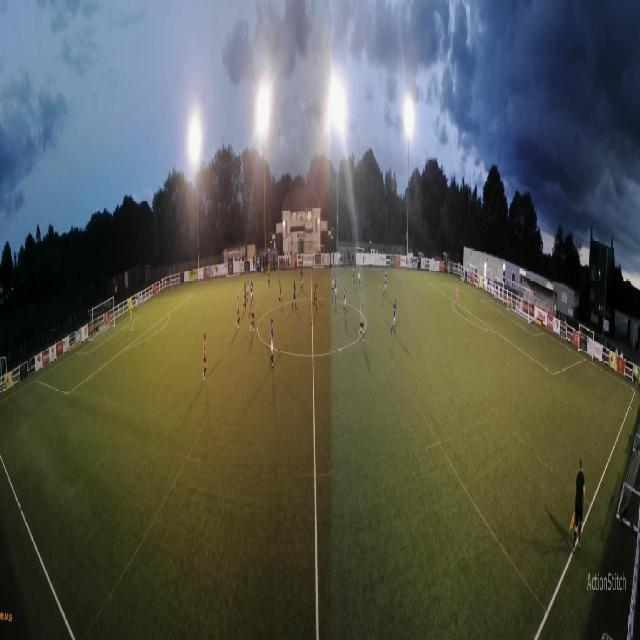ball: (379, 285, 382, 290)
player: (202, 333, 208, 381), (358, 300, 364, 342), (391, 298, 397, 335), (270, 318, 274, 369), (250, 295, 255, 333), (292, 280, 298, 311), (312, 283, 318, 314), (235, 294, 240, 329), (342, 283, 347, 317), (243, 282, 248, 311), (334, 275, 339, 304), (278, 276, 282, 305), (330, 266, 334, 295), (383, 271, 387, 299), (130, 306, 134, 333), (250, 280, 254, 307), (300, 267, 304, 293), (351, 262, 355, 288), (247, 275, 250, 302), (456, 283, 459, 309), (268, 262, 271, 287), (358, 263, 361, 287), (313, 270, 315, 300)
